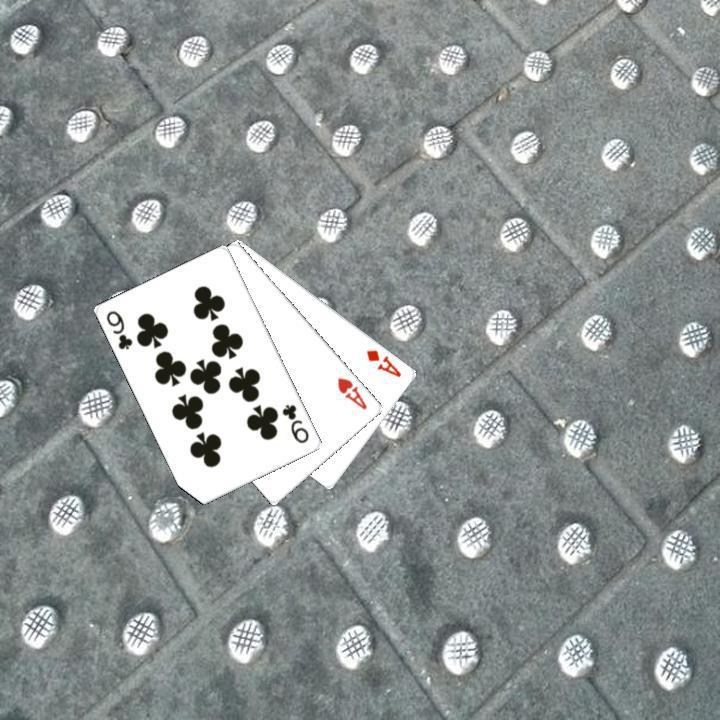9: (102, 306, 135, 352), (278, 400, 311, 445)
A: (333, 373, 370, 412), (362, 345, 404, 379)
